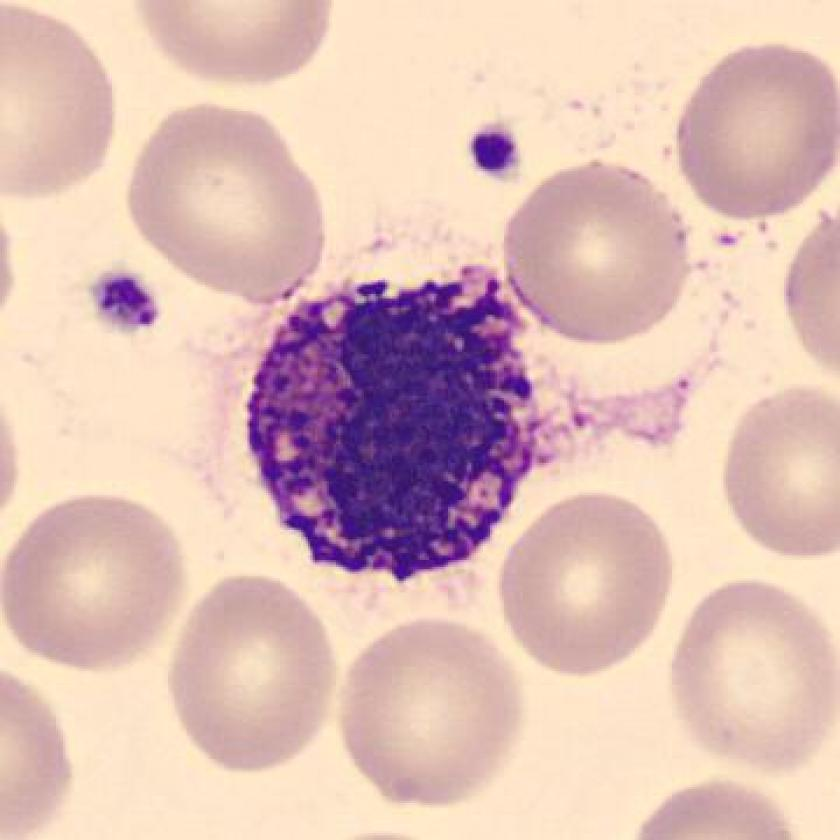basophil: (242, 267, 550, 596)
